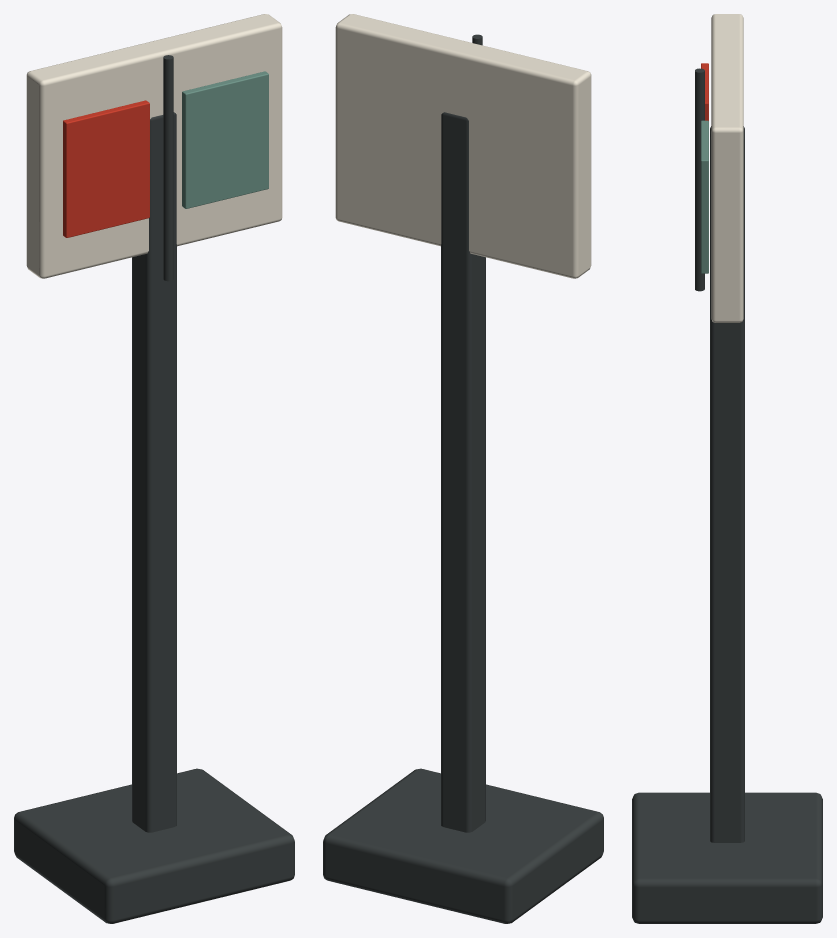
File: canal-boats-and-lock-operations-canal-boats-and-lock-o-3ba60bae__31660.glb
The picture shows the model from 3 angles, left to right: view 1: azimuth 30°, elevation 25°; view 2: azimuth 150°, elevation 25°; view 3: azimuth 270°, elevation 25°; orthographic projection.
Visible parts, largest first — view 1: canal-boats-and-lock-operations-lock-status-signal-board; view 2: canal-boats-and-lock-operations-lock-status-signal-board; view 3: canal-boats-and-lock-operations-lock-status-signal-board.
Part boxes in pixels (box(x1,y1,x2,y2)): canal-boats-and-lock-operations-lock-status-signal-board: box(14, 14, 294, 923); canal-boats-and-lock-operations-lock-status-signal-board: box(323, 14, 603, 923); canal-boats-and-lock-operations-lock-status-signal-board: box(632, 14, 822, 923).
Bounding box in the file's own units: 0.55 × 1.78 × 0.38.
